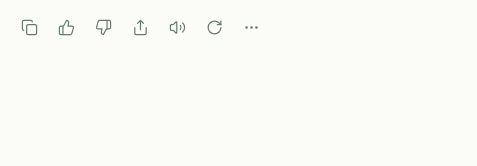
Test case: keeps rewrite separate and clearly unsaved without resending tasks
Click the button named "Rewrite answer without repeating tasks" at (214, 27), box [197, 10, 231, 44]
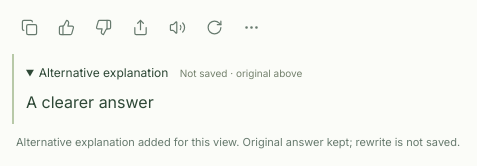
expect the text "A clearer answer" is shown: met, box [26, 92, 154, 112]
expect the text "Not saved · original above" is shown: met, box [180, 66, 302, 81]
expect the message shows "Original answer kept": met, box [16, 135, 460, 149]
